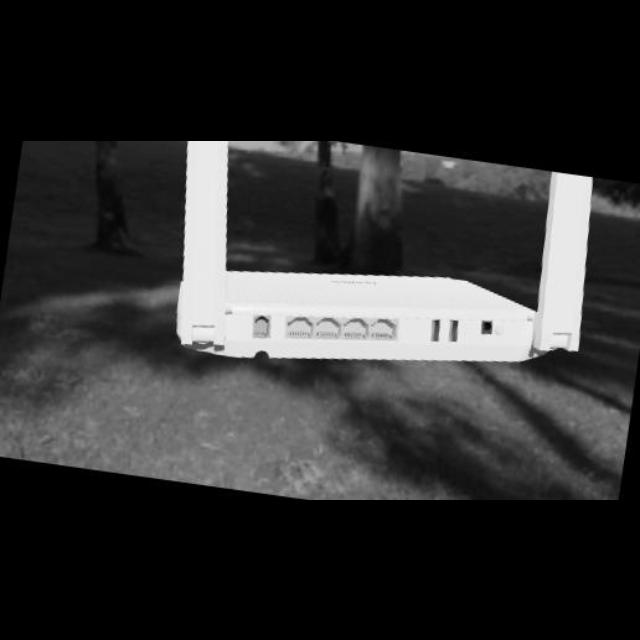Router: (168, 140, 600, 368)
